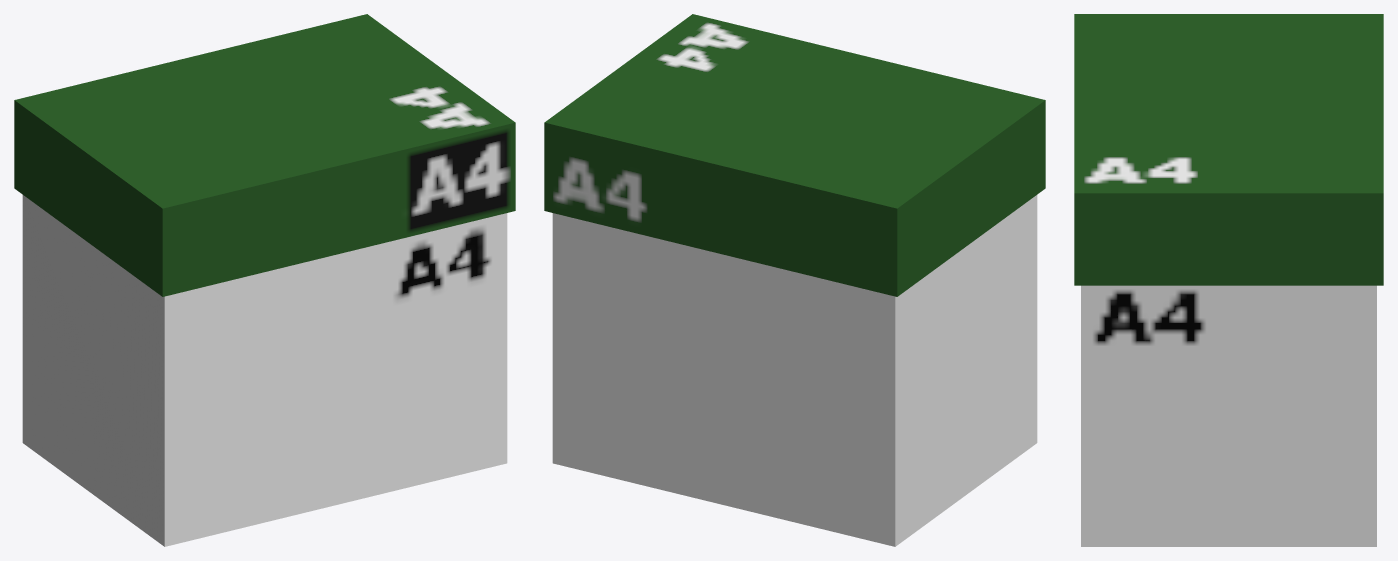
File: paper box.fbx
3 views of the same model, side by side, from view 1: azimuth 30°, elevation 25°; view 2: azimuth 150°, elevation 25°; view 3: azimuth 270°, elevation 25° (orthographic). The views are drawn at different scales.
Visible parts, largest first — view 1: PaperBox; view 2: PaperBox; view 3: PaperBox.
Part boxes in pixels (box(x1,y1,x2,y2)): PaperBox: box(14, 14, 515, 546); PaperBox: box(544, 14, 1045, 546); PaperBox: box(1074, 14, 1383, 546).
Size of the model in its own units: 30.83 by 28.54 by 22.45.
